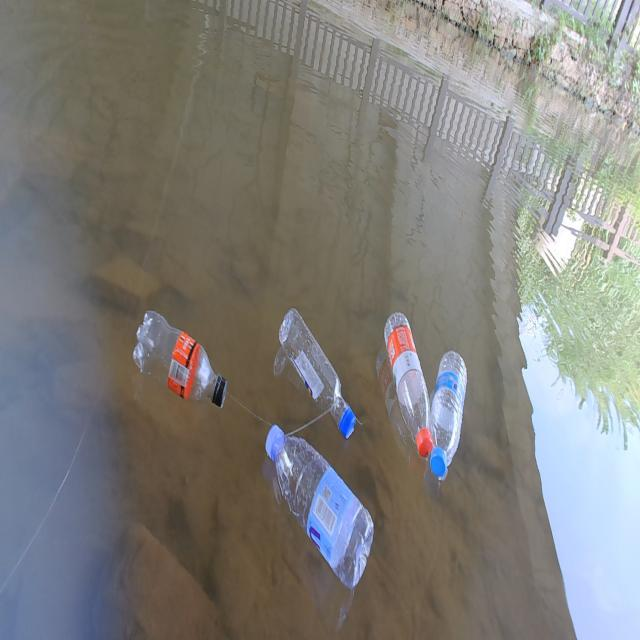Bottle: (263, 425, 373, 593), (276, 301, 358, 435), (132, 307, 228, 412), (383, 304, 433, 454), (429, 346, 468, 480)
